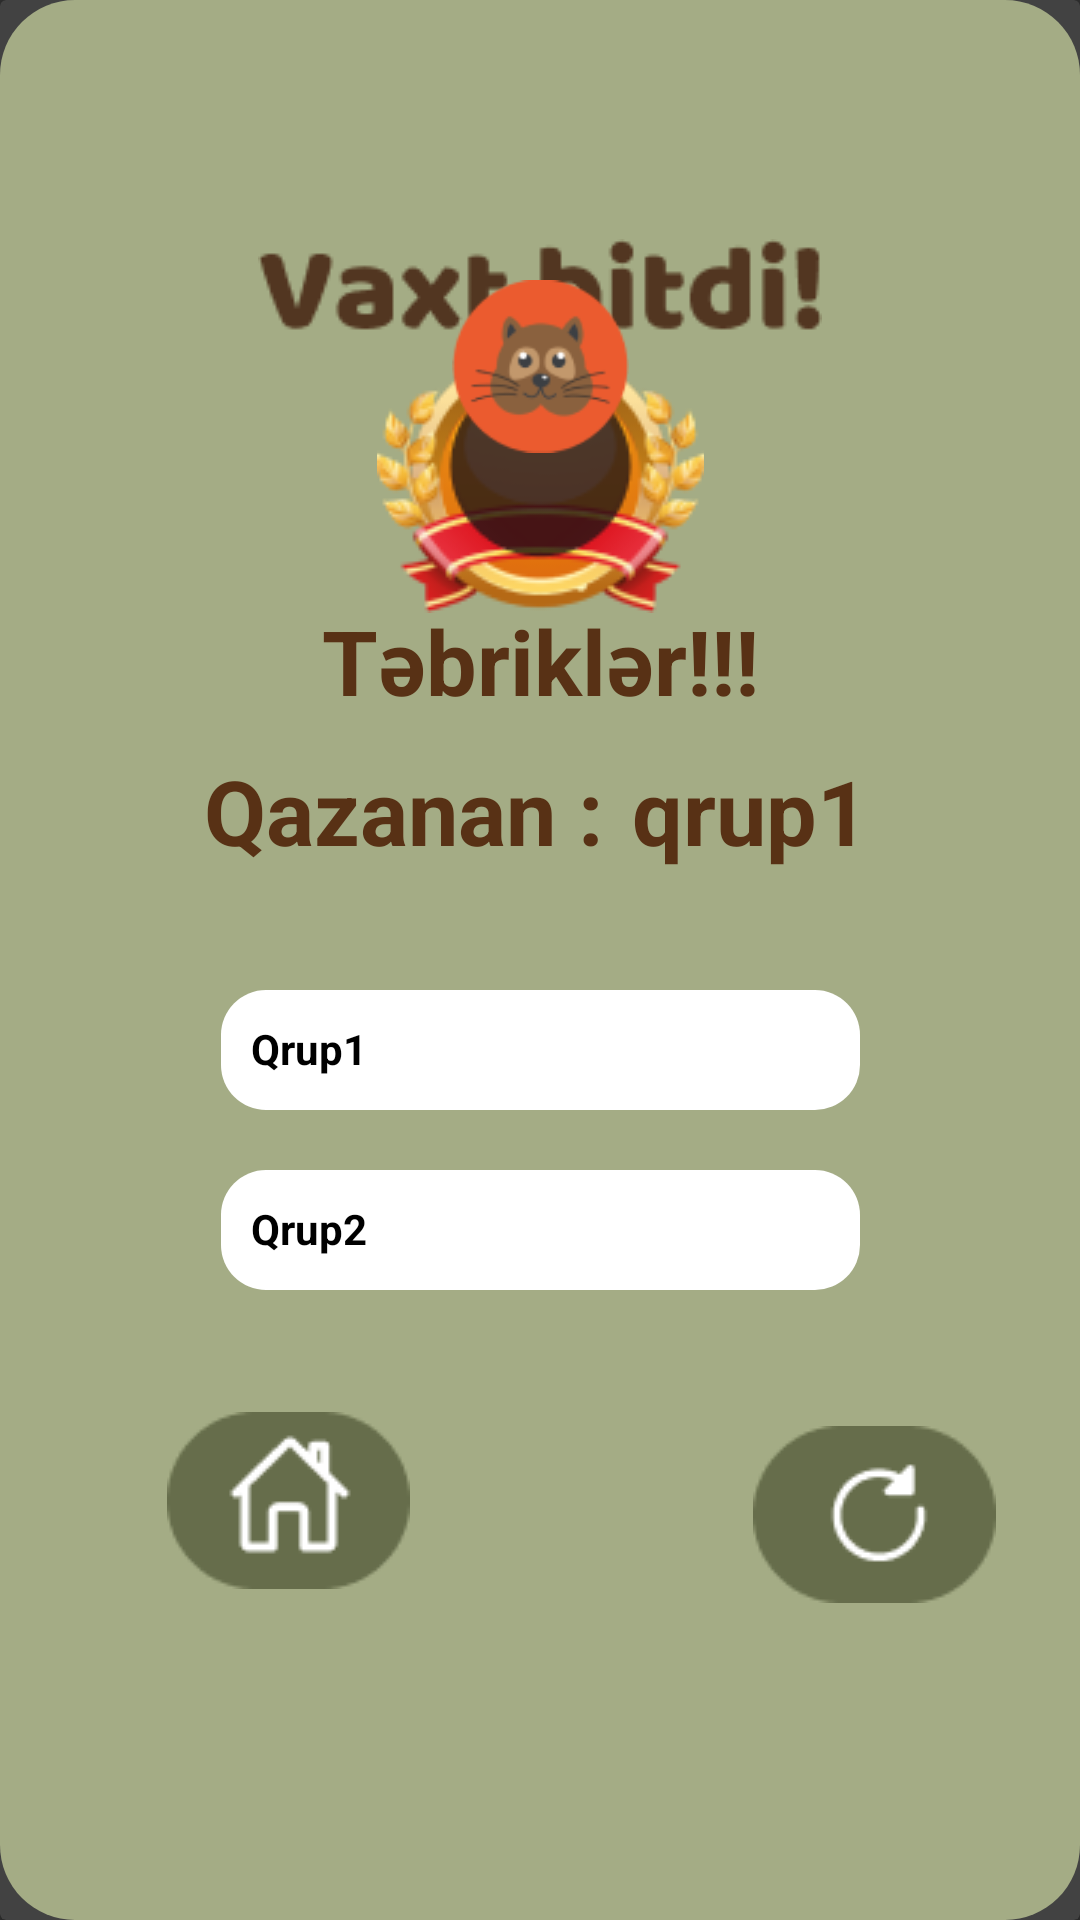

Point at icon controls on the screen. Image size 1080x1920, points as [x,y].
home: [288,1500]
restart: [874,1514]
